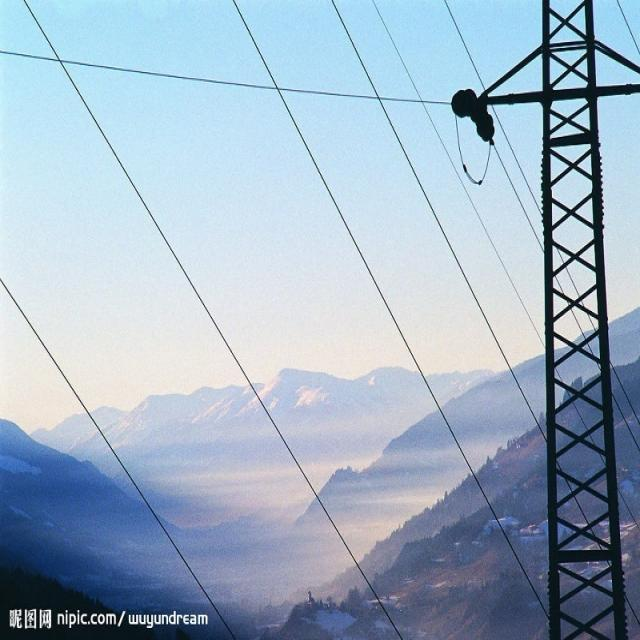non-critical vegetation: (492, 15, 625, 636)
